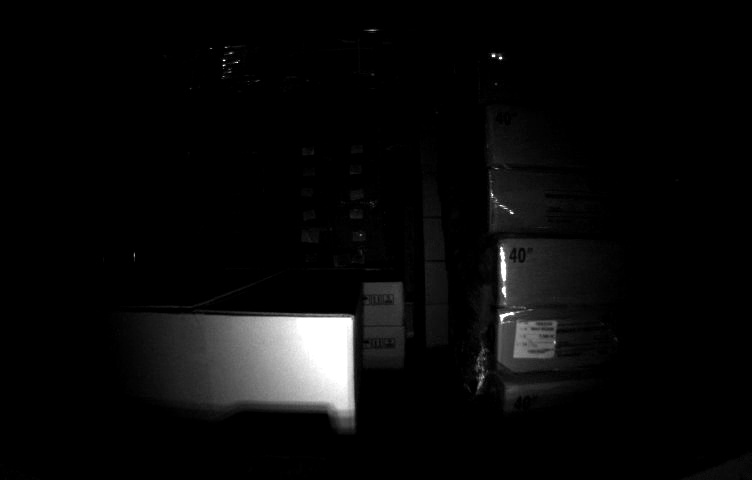True Barcode: (515, 316, 556, 356)
